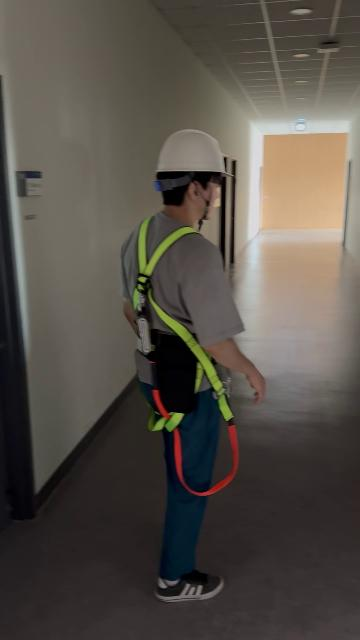helmet_worn: (154, 129, 236, 180)
shoe_not_worn: (156, 571, 223, 602)
vest_worn: (127, 218, 242, 487)
